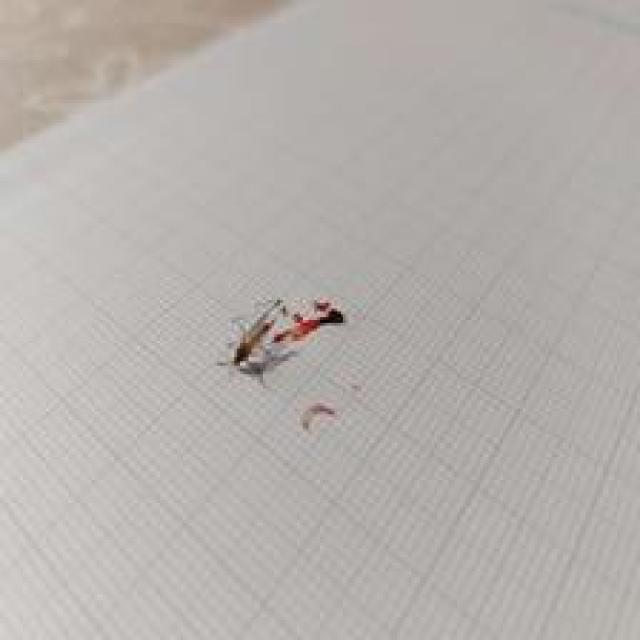Culex: (219, 293, 347, 384)
